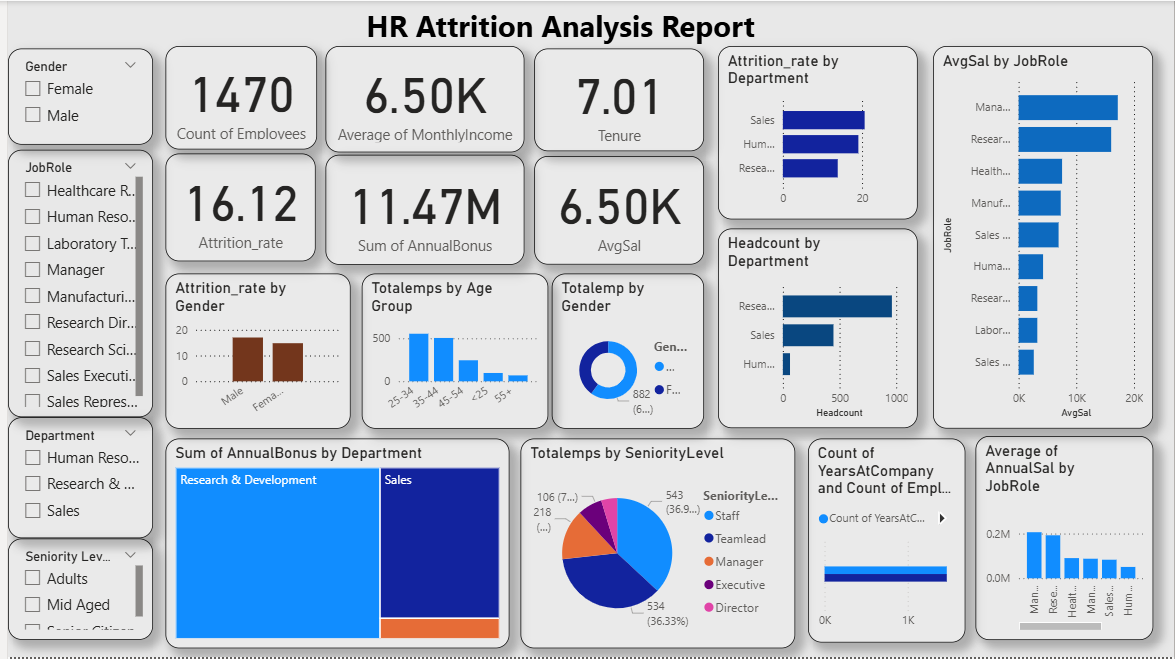

This screenshot's page, from the dashboard's own definition file:
{"tool":"powerbi","page":{"name":"Page 1","canvas":[1280,720],"ordinal":0},"visuals":[{"type":"textbox","box":[388.3,0,489.9,68.6],"z":0},{"type":"slicer","fields":{"Values":["HR_Data.JobRole"]},"box":[0,163.3,159.2,293.7],"z":1000},{"type":"slicer","fields":{"Values":["HR_Data.Gender"]},"box":[0,52.1,159.2,105.7],"z":2000},{"type":"slicer","fields":{"Values":["HR_Data.Department"]},"box":[0,456.9,159.2,133.1],"z":3000},{"type":"slicer","fields":{"Values":["HR_Data.Seniority Level"]},"box":[0,590.1,159.2,111.1],"z":4000},{"type":"card","fields":{"Values":["CountNonNull(HR_Data.EmployeeNumber)"]},"box":[172.9,49.4,166,113.9],"z":5000},{"type":"card","fields":{"Values":["Avg(HR_Data.MonthlyIncome)"]},"box":[348.5,49.4,218.2,116.6],"z":6000},{"type":"card","fields":{"Values":["Avg(HR_Data.YearsAtCompany)"]},"box":[577.7,52.1,186.6,112.5],"z":7000},{"type":"card","fields":{"Values":["HR_Data.AvgSal"]},"box":[577.7,170.2,186.6,119.4],"z":8000},{"type":"card","fields":{"Values":["Sum(HR_Data.AnnualBonus)"]},"box":[348.5,168.8,218.2,120.8],"z":9000},{"type":"card","fields":{"Values":["HR_Data.Attrition_rate"]},"box":[172.9,167.4,164.7,118],"z":10000},{"type":"clusteredBarChart","fields":{"Y":["HR_Data.Attrition_rate"],"Category":["HR_Data.Department"]},"box":[779.4,49.4,219.6,190.7],"z":11000},{"type":"clusteredBarChart","fields":{"Category":["HR_Data.Department"],"Y":["HR_Data.Headcount"]},"box":[779.4,249.7,219.6,219.6],"z":12000},{"type":"clusteredColumnChart","fields":{"Category":["HR_Data.Age Group"],"Y":["HR_Data.Totalemps"]},"box":[388.3,299.1,204.5,170.2],"z":13000},{"type":"barChart","fields":{"Y":["HR_Data.AvgSal"],"Category":["HR_Data.JobRole"]},"box":[1015.4,49.4,241.5,419.9],"z":14000},{"type":"columnChart","fields":{"Y":["HR_Data.Attrition_rate"],"Category":["HR_Data.Gender"]},"box":[172.9,299.1,203.1,170.2],"z":15000},{"type":"treemap","fields":{"Values":["Sum(HR_Data.AnnualBonus)"],"Group":["HR_Data.Department"]},"box":[172.9,480.3,377.4,230.5],"z":16000},{"type":"clusteredBarChart","fields":{"Y":["CountNonNull(HR_Data.YearsAtCompany)","CountNonNull(HR_Data.EmployeeNumber)"]},"box":[878.2,480.3,172.9,223.7],"z":17000},{"type":"pieChart","fields":{"Y":["HR_Data.Totalemps"],"Category":["HR_Data.SeniorityLevel"]},"box":[562.6,480.3,301.9,230.5],"z":18000},{"type":"donutChart","fields":{"Y":["HR_Data.Totalemp"],"Category":["HR_Data.Gender"]},"box":[596.9,299.1,167.4,170.2],"z":19000},{"type":"columnChart","fields":{"Y":["Avg(HR_Data.AnnualSal)"],"Category":["HR_Data.JobRole"]},"box":[1062,478,195,224],"z":20000}]}

Visuals, with their boxes in screenshot pixels (x1, y1, x2, y2), scaled from the page's 1280x720 canvas onto the 1175x659 screenshot:
textbox: <region>356, 0, 806, 63</region>
slicer - HR_Data.JobRole: <region>0, 149, 146, 418</region>
slicer - HR_Data.Gender: <region>0, 48, 146, 144</region>
slicer - HR_Data.Department: <region>0, 418, 146, 540</region>
slicer - HR_Data.Seniority Level: <region>0, 540, 146, 642</region>
card - CountNonNull(HR_Data.EmployeeNumber): <region>159, 45, 311, 149</region>
card - Avg(HR_Data.MonthlyIncome): <region>320, 45, 520, 152</region>
card - Avg(HR_Data.YearsAtCompany): <region>530, 48, 702, 151</region>
card - HR_Data.AvgSal: <region>530, 156, 702, 265</region>
card - Sum(HR_Data.AnnualBonus): <region>320, 154, 520, 265</region>
card - HR_Data.Attrition_rate: <region>159, 153, 310, 261</region>
clusteredBarChart - HR_Data.Attrition_rate x HR_Data.Department: <region>715, 45, 917, 220</region>
clusteredBarChart - HR_Data.Department x HR_Data.Headcount: <region>715, 229, 917, 430</region>
clusteredColumnChart - HR_Data.Age Group x HR_Data.Totalemps: <region>356, 274, 544, 430</region>
barChart - HR_Data.AvgSal x HR_Data.JobRole: <region>932, 45, 1154, 430</region>
columnChart - HR_Data.Attrition_rate x HR_Data.Gender: <region>159, 274, 345, 430</region>
treemap - Sum(HR_Data.AnnualBonus) x HR_Data.Department: <region>159, 440, 505, 651</region>
clusteredBarChart - CountNonNull(HR_Data.YearsAtCompany) x CountNonNull(HR_Data.EmployeeNumber): <region>806, 440, 965, 644</region>
pieChart - HR_Data.Totalemps x HR_Data.SeniorityLevel: <region>516, 440, 794, 651</region>
donutChart - HR_Data.Totalemp x HR_Data.Gender: <region>548, 274, 702, 430</region>
columnChart - Avg(HR_Data.AnnualSal) x HR_Data.JobRole: <region>975, 438, 1154, 643</region>
